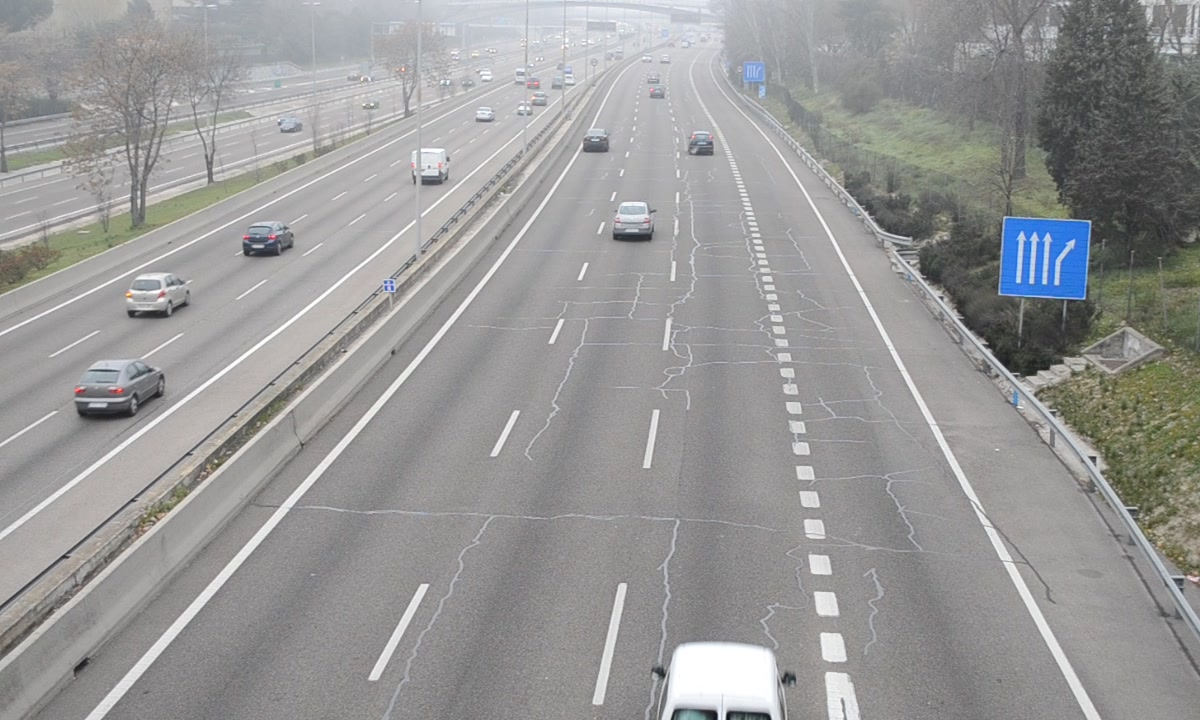car: (615, 201, 654, 240), (687, 130, 716, 157), (583, 129, 610, 154)
